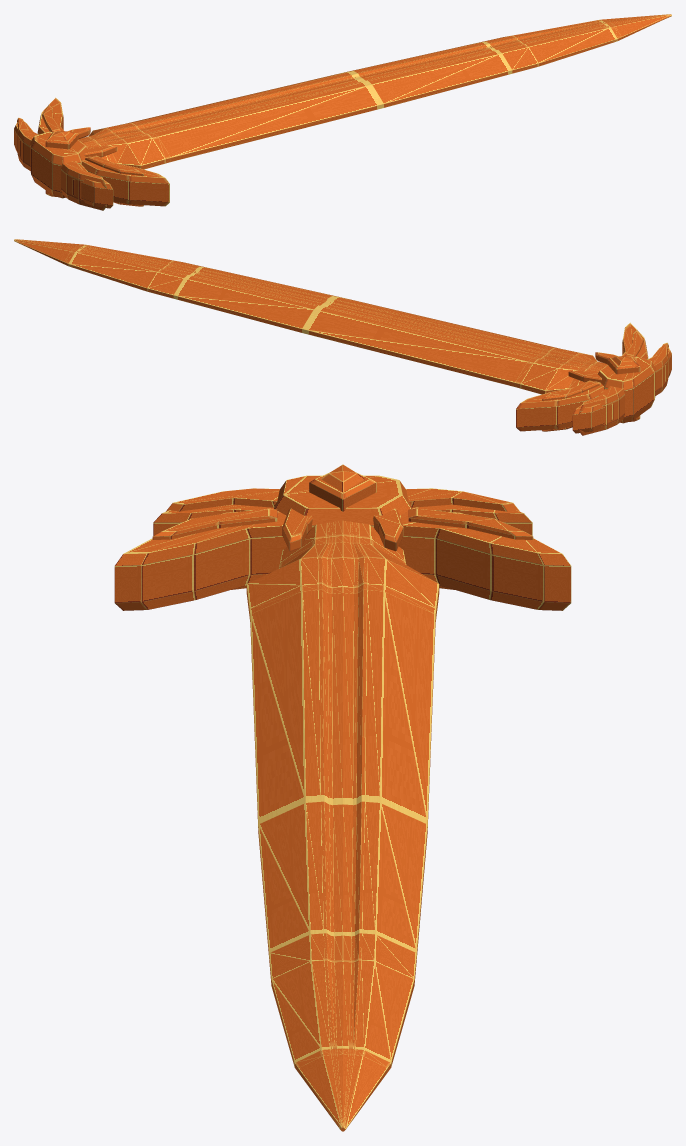
The model's file is bench_zhuji_baiqing_lingyun_sword_1_hot.obj.
3 renders of one model, top to bottom at view 1: azimuth 30°, elevation 25°; view 2: azimuth 150°, elevation 25°; view 3: azimuth 270°, elevation 25°, orthographic. The views are drawn at different scales.
Visible parts, largest first — view 1: geometry; view 2: geometry; view 3: geometry.
Boxes of the visible parts, <box> form: geometry: <box>14,14,671,210</box>; geometry: <box>14,239,671,435</box>; geometry: <box>114,464,571,1131</box>.
Bounding box in the file's own units: 0.75 × 0.0722 × 0.2357.
